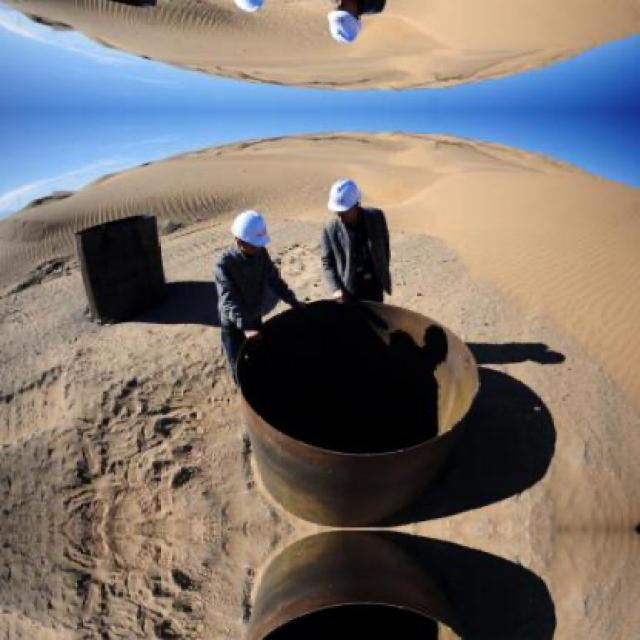helmet: (228, 208, 272, 258), (324, 0, 364, 52), (326, 171, 365, 224), (226, 0, 272, 15)
